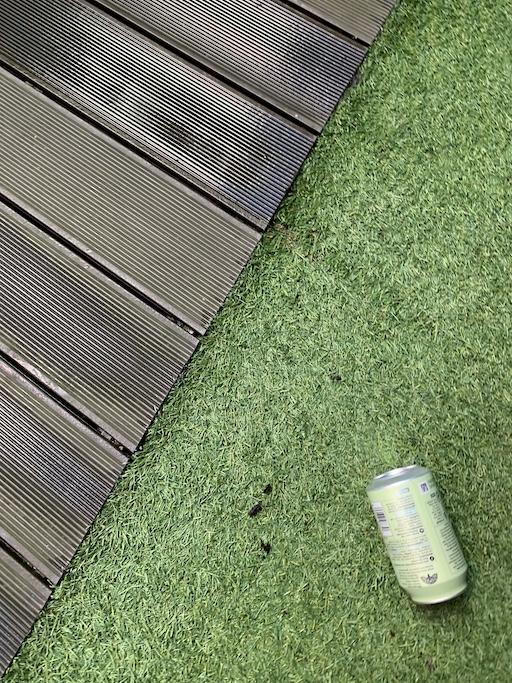Aluminum can: (350, 446, 484, 613)
